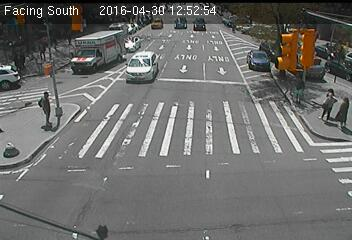neg: (213, 42, 260, 104), (301, 164, 340, 215), (80, 145, 109, 183), (160, 71, 186, 105), (259, 76, 285, 110), (193, 42, 216, 72), (153, 153, 176, 183), (234, 132, 253, 158), (99, 51, 118, 76), (14, 10, 32, 34), (224, 147, 240, 168), (195, 2, 209, 22), (44, 5, 54, 18)
pos: (333, 95, 351, 130)
